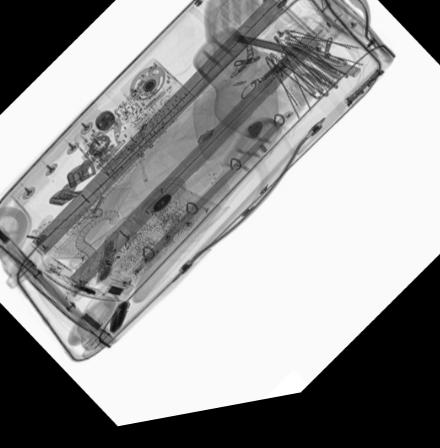Knife: (107, 301, 132, 341)
